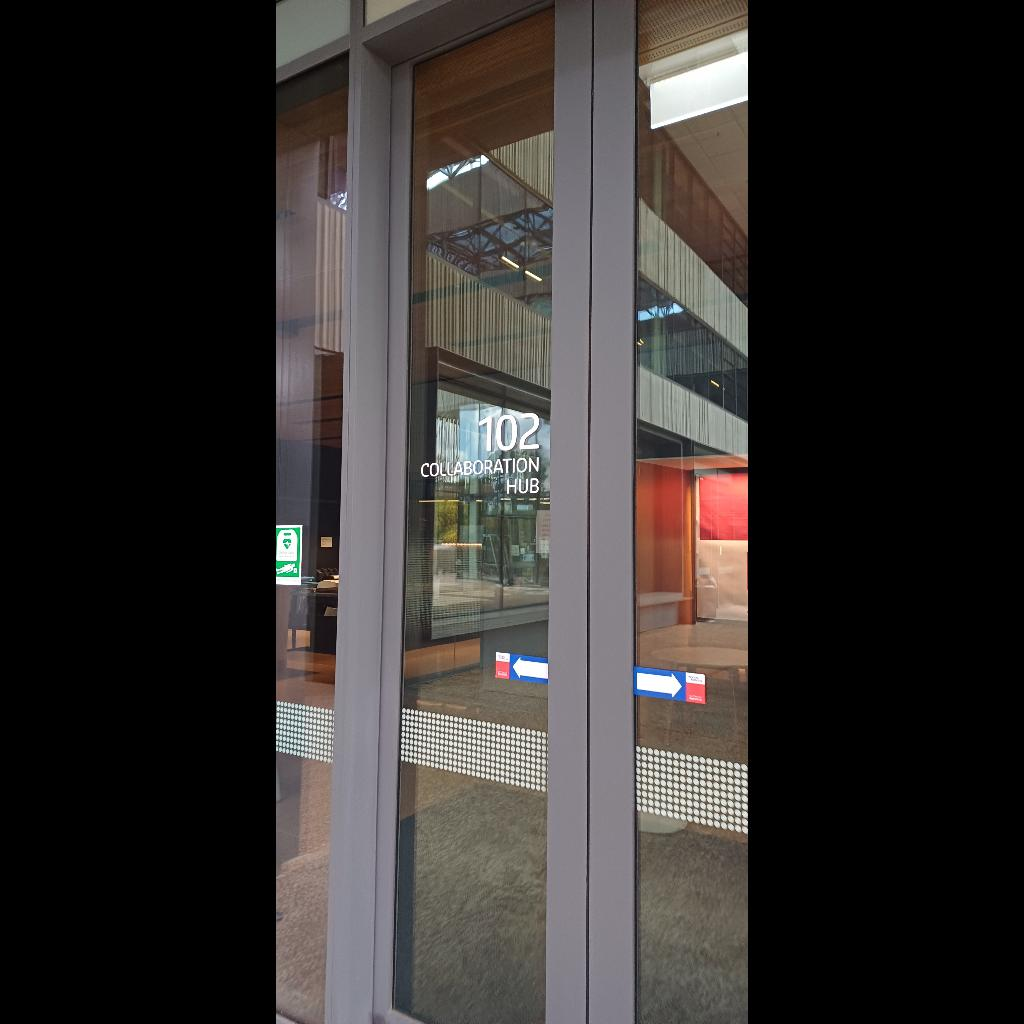BuildingCodes: (470, 410, 548, 456)
